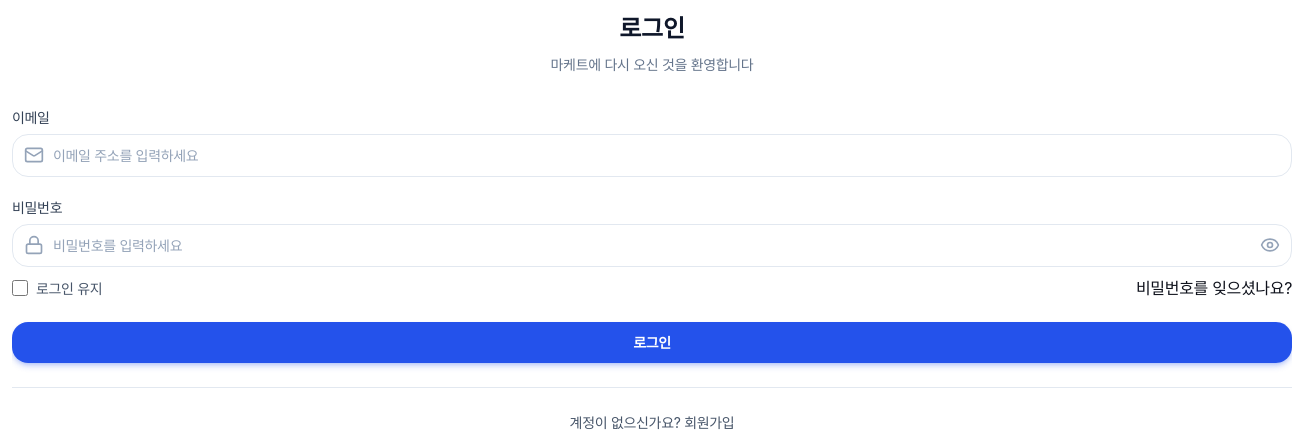
Test: LoginPage › 로딩 상태 › 로그인 중에는 버튼이 비활성화된다
This screenshot has width=1304, height=447.
Type "test@example.com" into the field labelled "이메일" at (652, 155), box [12,134,1292,177]
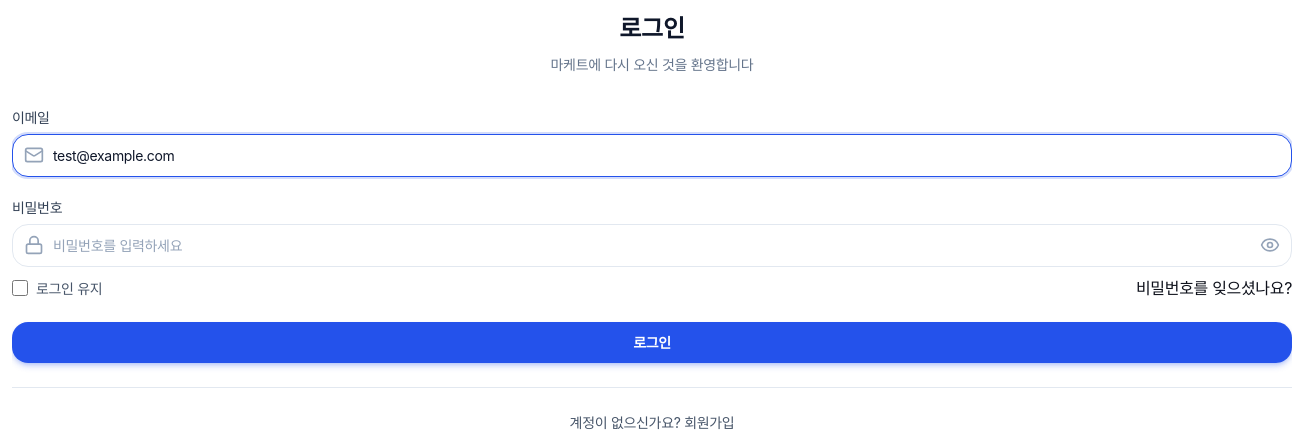
Type "password123" into the password field labelled "비밀번호" at (652, 245), box [12,224,1292,267]
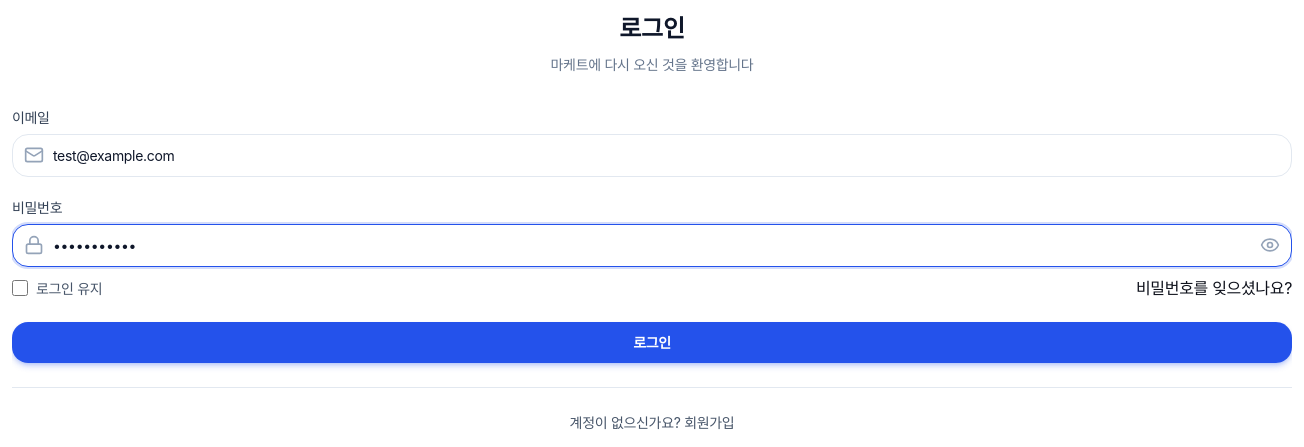
Click the button "로그인" at (652, 342), box [12,322,1292,363]
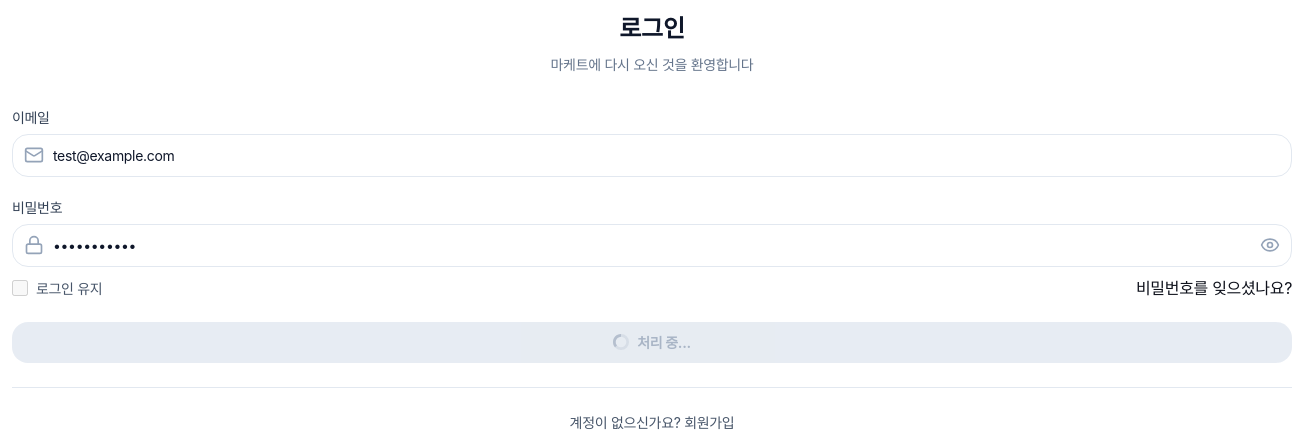
Now the button "처리 중..." is disabled, box [12,322,1292,363]
